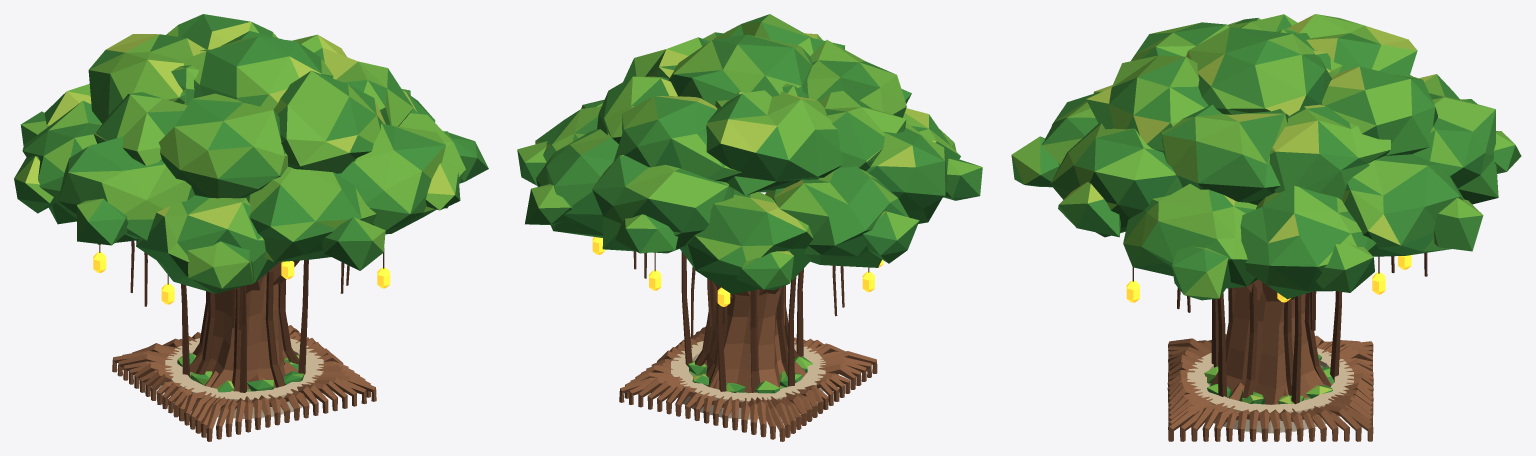
Rendered from tree_banyan.glb.
The picture shows the model from 3 angles, left to right: view 1: azimuth 30°, elevation 25°; view 2: azimuth 150°, elevation 25°; view 3: azimuth 270°, elevation 25°; orthographic projection. The views are drawn at different scales.
Parts seen in each view (by area): view 1: canopy, body, lanterns; view 2: canopy, body, lanterns; view 3: canopy, body, lanterns.
Boxes of the visible parts, <box> form: canopy: <box>14,14,488,293</box>; body: <box>99,241,384,441</box>; lanterns: <box>93,252,390,304</box>; canopy: <box>517,14,982,294</box>; body: <box>619,251,877,441</box>; lanterns: <box>592,237,883,306</box>; canopy: <box>1011,14,1521,300</box>; body: <box>1132,253,1427,441</box>; lanterns: <box>1126,255,1411,302</box>.
Bounding box in the file's own units: 12.01 × 9.82 × 12.44.
